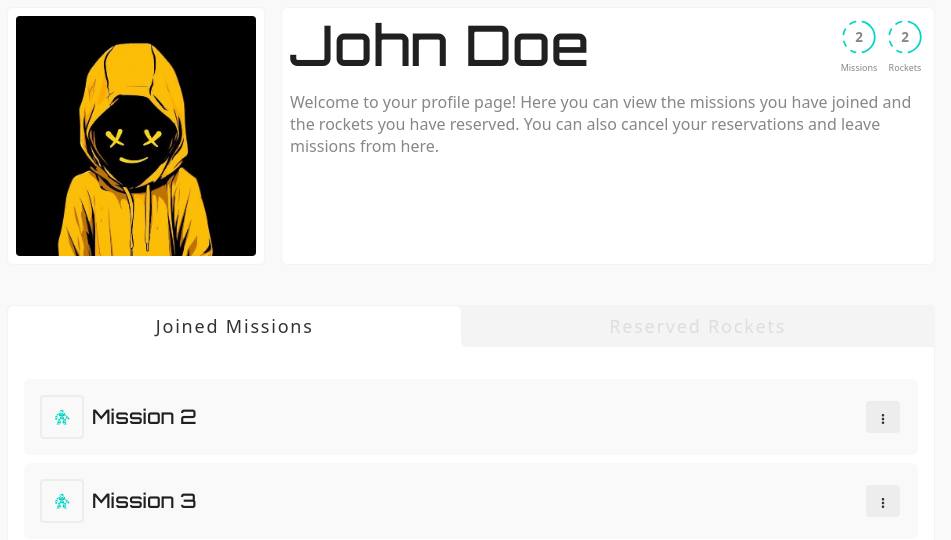
Test: MyProfile Component › renders MyProfile component with rocket list
Click the button "Reserved Rockets" at (698, 327), box x1=462 y1=306 x2=934 y2=347
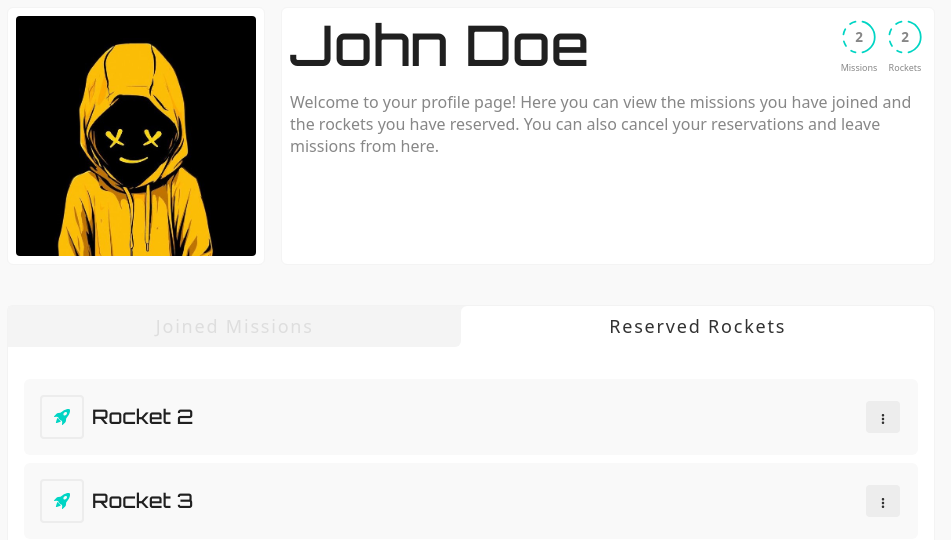
Check: the heading "Rocket 2" is shown, box x1=92 y1=407 x2=193 y2=427
Check: the heading "Rocket 3" is shown, box x1=92 y1=491 x2=193 y2=511
